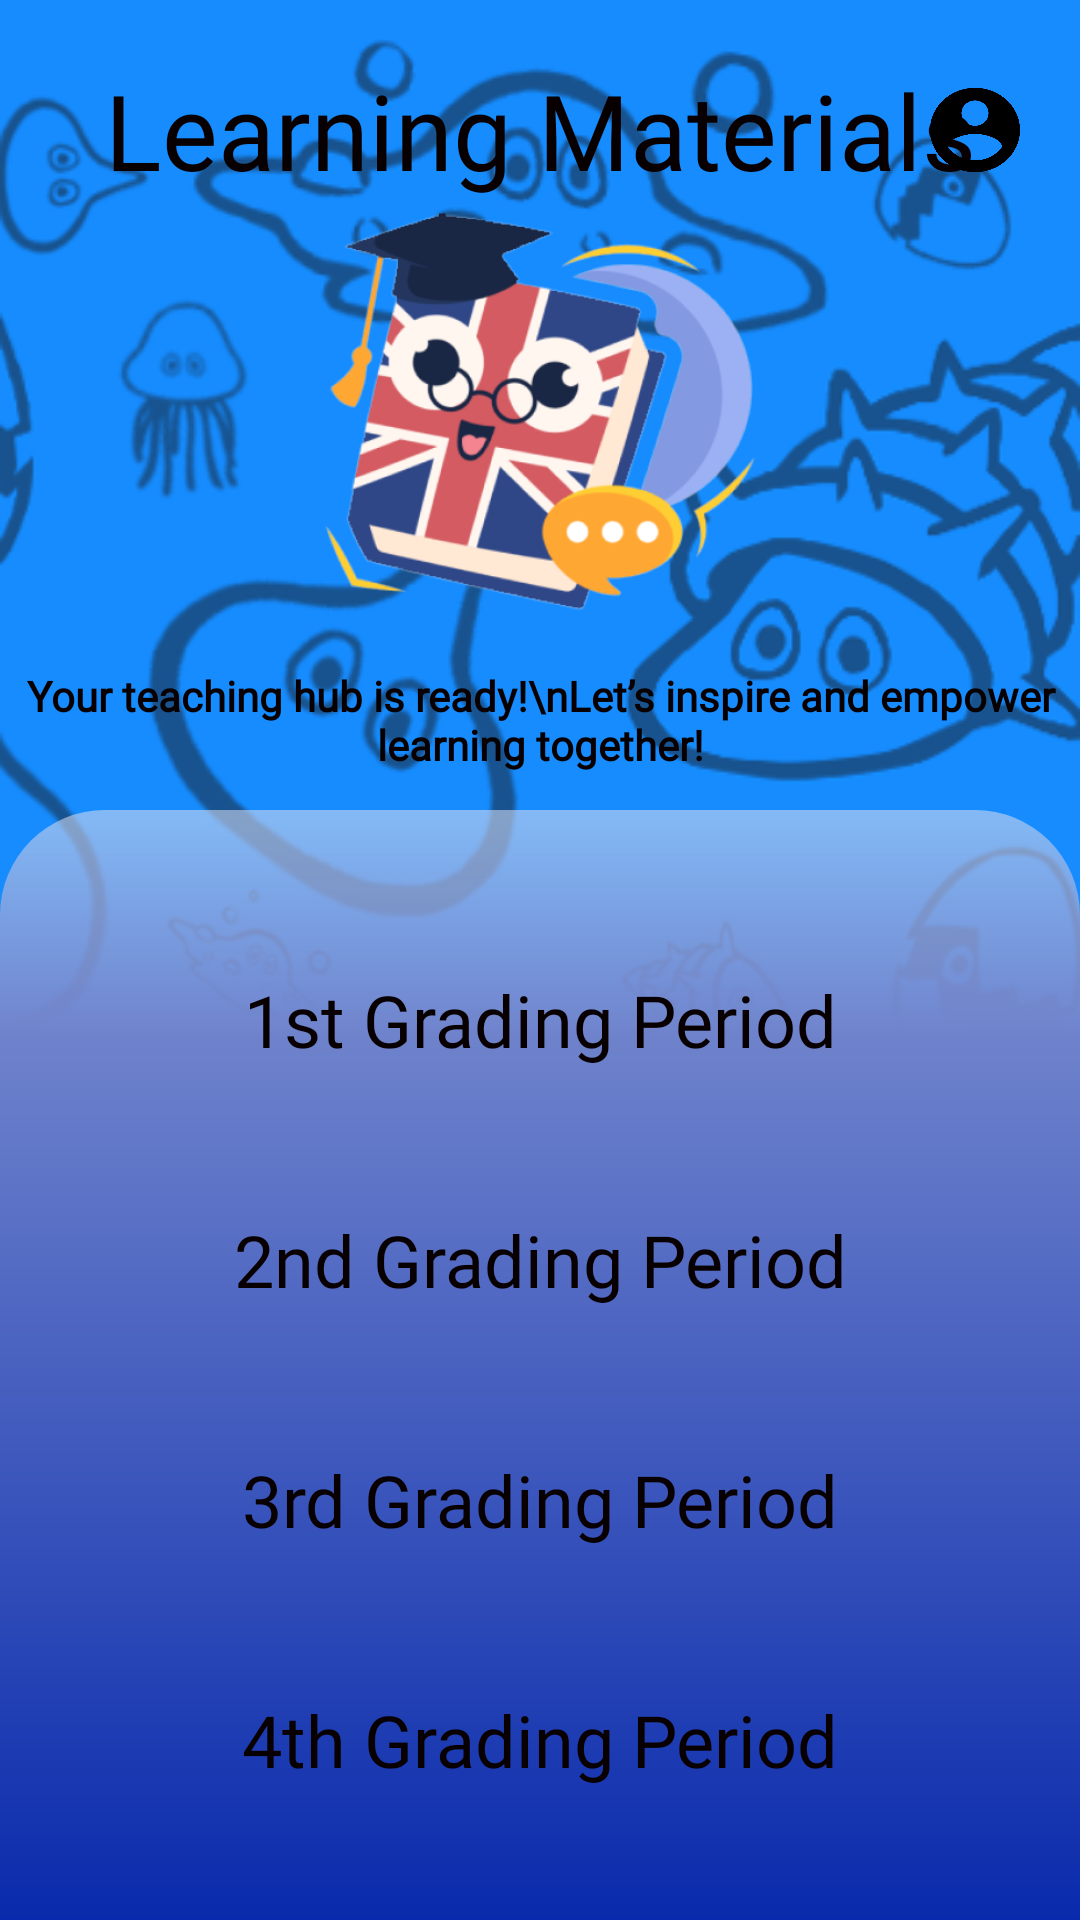

Icons on this 1080px x 1920px Android screen, each with the point to tap as point (x, y):
profile: point (975, 131)
